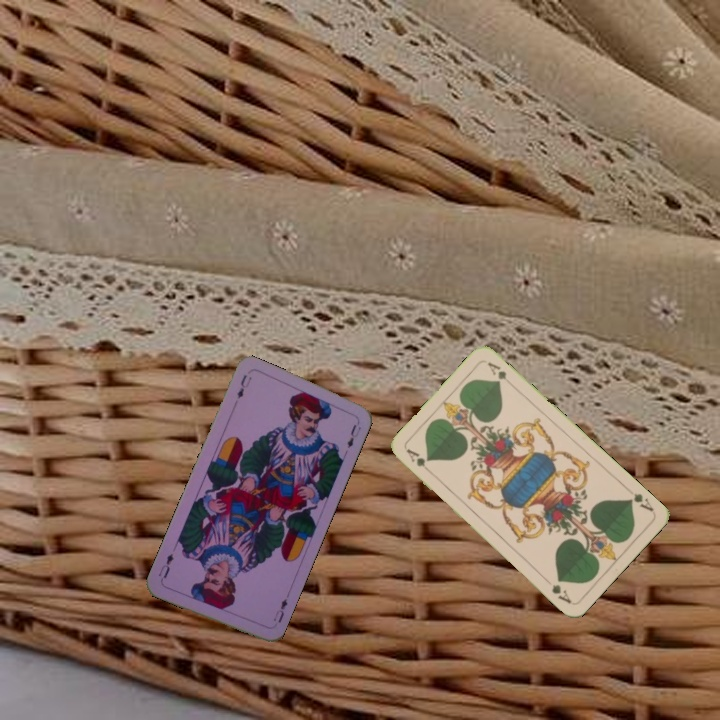EU: (233, 370, 254, 402), (269, 594, 290, 625)
GA: (402, 445, 435, 477), (624, 489, 656, 515)
